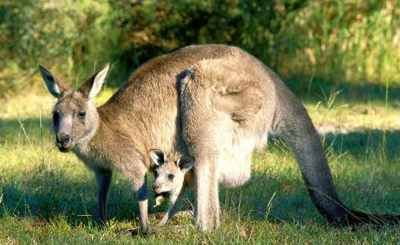kangaroo: (35, 42, 399, 237), (143, 146, 196, 228)
